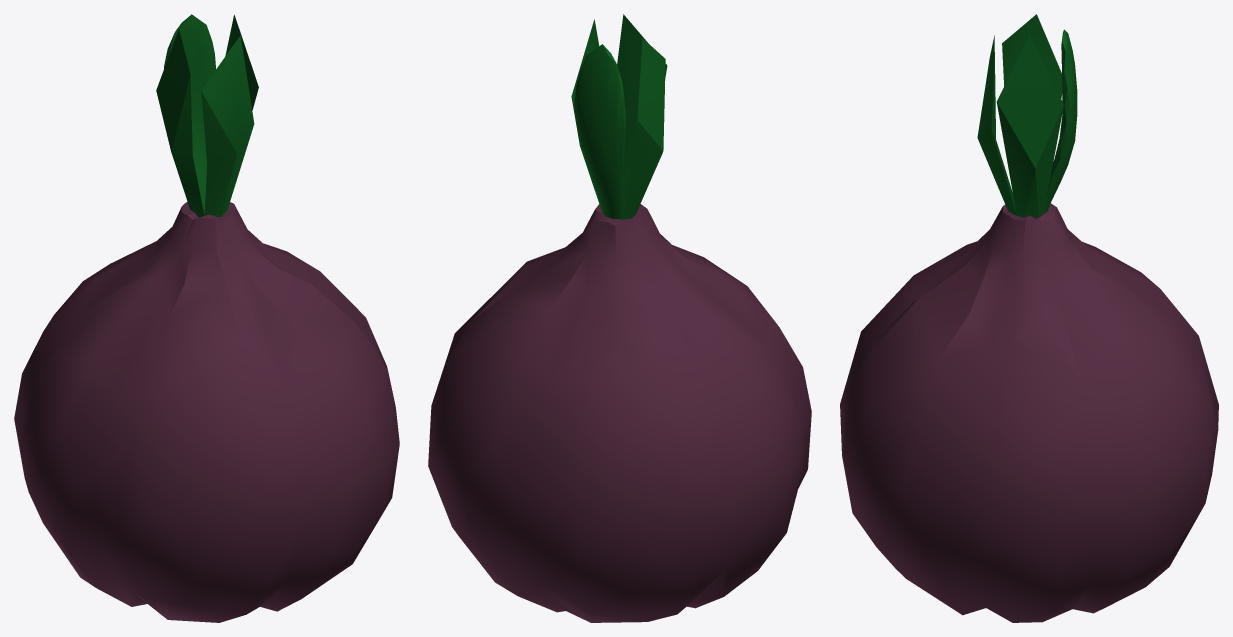
The model's file is onion.fbx.
3 views of the same model, side by side, from view 1: azimuth 30°, elevation 25°; view 2: azimuth 150°, elevation 25°; view 3: azimuth 270°, elevation 25° (orthographic).
Visible parts, largest first — view 1: Sphere.003, Cube.003, Cube.002, Cube.001, Cube; view 2: Sphere.003, Cube.001, Cube.002, Cube.003, Cube; view 3: Sphere.003, Cube, Cube.001, Cube.003, Cube.002.
Boxes of the visible parts, left/top/right/bottom form: Sphere.003: left=14, top=202, right=399, bottom=622; Cube.003: left=201, top=35, right=254, bottom=217; Cube.002: left=156, top=29, right=204, bottom=217; Cube.001: left=164, top=14, right=215, bottom=209; Cube: left=225, top=14, right=258, bottom=110; Sphere.003: left=428, top=204, right=811, bottom=622; Cube.001: left=574, top=44, right=625, bottom=219; Cube.002: left=622, top=38, right=665, bottom=219; Cube.003: left=617, top=14, right=667, bottom=204; Cube: left=571, top=19, right=602, bottom=212; Sphere.003: left=840, top=203, right=1218, bottom=622; Cube: left=996, top=35, right=1063, bottom=217; Cube.001: left=1041, top=29, right=1077, bottom=214; Cube.003: left=977, top=35, right=1016, bottom=215; Cube.002: left=1002, top=14, right=1062, bottom=98.
Bounding box in the file's own units: 158 × 254 × 155.
